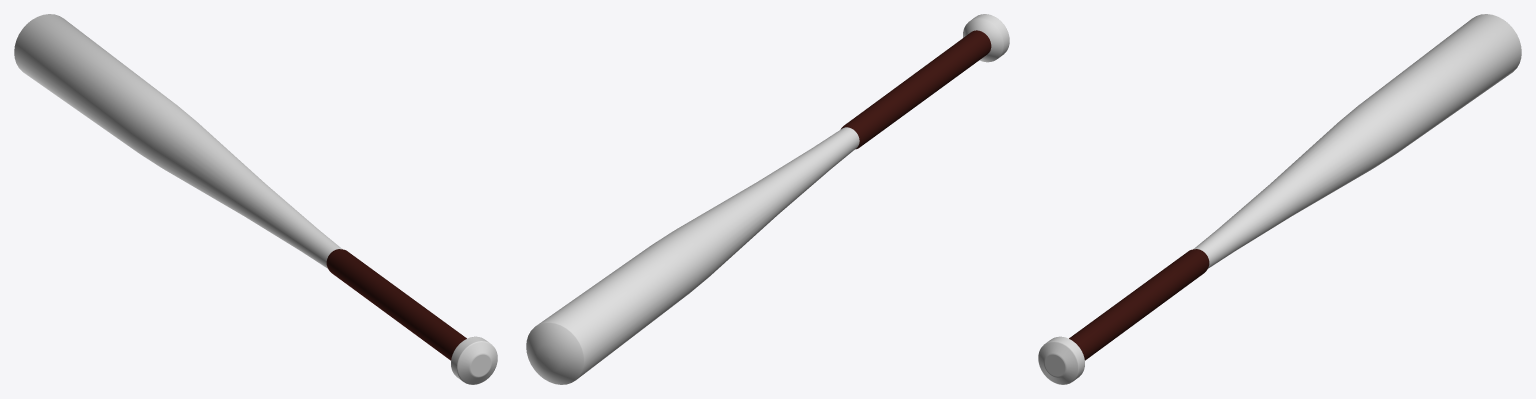
Rendered from bat.fbx.
The picture shows the model from 3 angles, left to right: view 1: azimuth 30°, elevation 25°; view 2: azimuth 150°, elevation 25°; view 3: azimuth 330°, elevation 25°; orthographic projection.
Visible parts, largest first — view 1: Bat, Bat.001; view 2: Bat, Bat.001; view 3: Bat, Bat.001.
Part boxes in pixels (x1,y1,x2,y2): Bat: (14,14,497,384); Bat.001: (326,249,466,360); Bat: (526,14,1009,384); Bat.001: (840,30,991,149); Bat: (1038,14,1521,384); Bat.001: (1069,249,1209,360).
Bounding box in the file's own units: 34.95 × 34.95 × 459.
